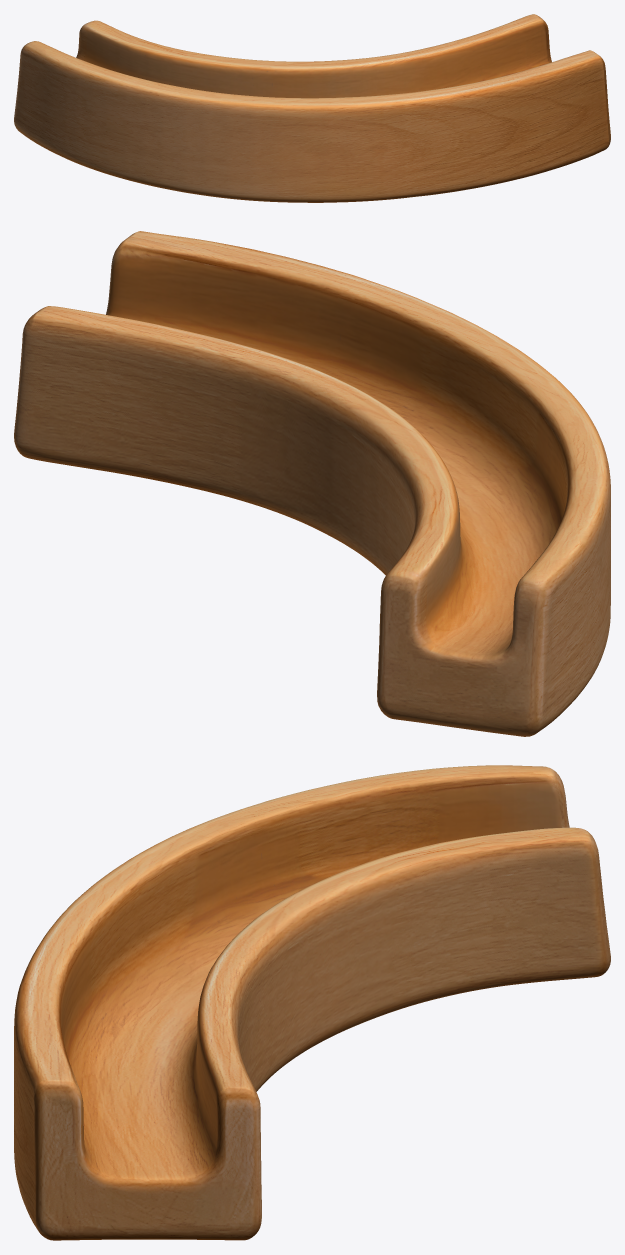
Rendered from tripo_convert_5f7f6c0c-1693-4068-a6b1-ca50f7bc01d7.fbx.
3 views of the same model, one above another, from view 1: azimuth 30°, elevation 25°; view 2: azimuth 150°, elevation 25°; view 3: azimuth 270°, elevation 25° (orthographic). The views are drawn at different scales.
Parts seen in each view (by area): view 1: tripo_node_5f7f6c0c; view 2: tripo_node_5f7f6c0c; view 3: tripo_node_5f7f6c0c.
Boxes of the visible parts, <box> form: tripo_node_5f7f6c0c: <box>14,14,610,202</box>; tripo_node_5f7f6c0c: <box>14,231,610,736</box>; tripo_node_5f7f6c0c: <box>14,765,610,1240</box>.
Size of the model in its own units: 0.9803 by 0.2129 by 0.7398.
1 material, 1 textured.
